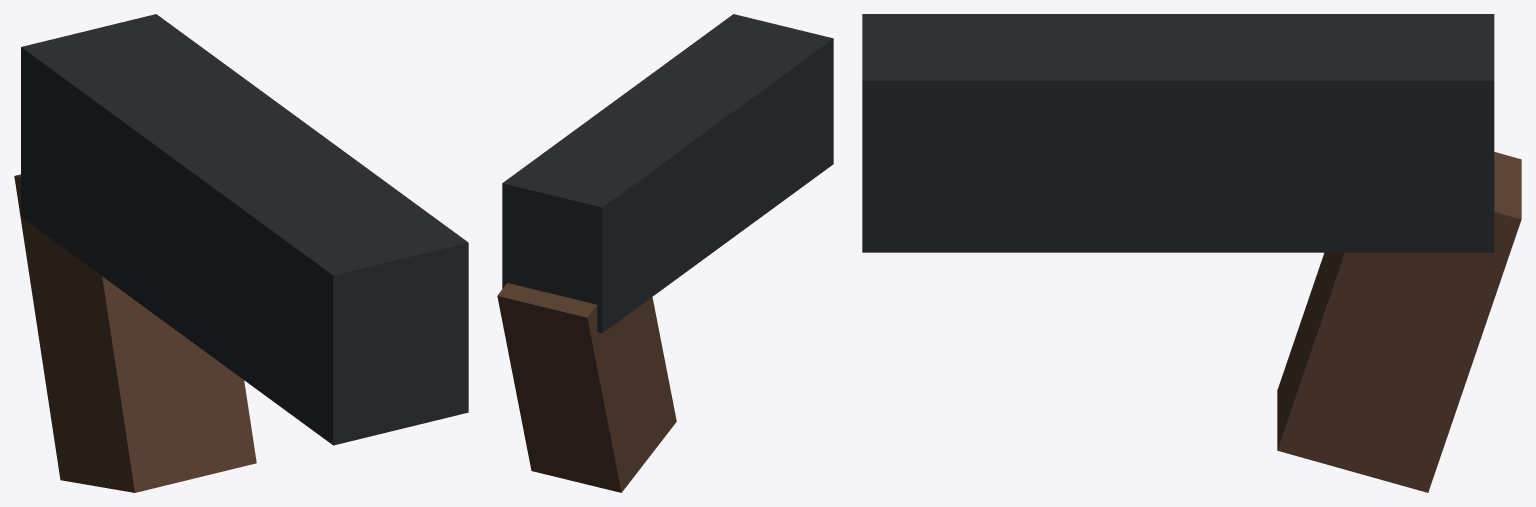
The model's file is fw_pistol.glb.
3 renders of one model, left to right at view 1: azimuth 30°, elevation 25°; view 2: azimuth 150°, elevation 25°; view 3: azimuth 270°, elevation 25°, orthographic. The views are drawn at different scales.
Parts seen in each view (by area): view 1: fw_pistol; view 2: fw_pistol; view 3: fw_pistol.
Part boxes in pixels (box(x1,y1,x2,y2)): fw_pistol: box(14, 14, 468, 492); fw_pistol: box(497, 14, 833, 492); fw_pistol: box(862, 14, 1521, 492).
Bounding box in the file's own units: 0.05 × 0.1452 × 0.2087.
